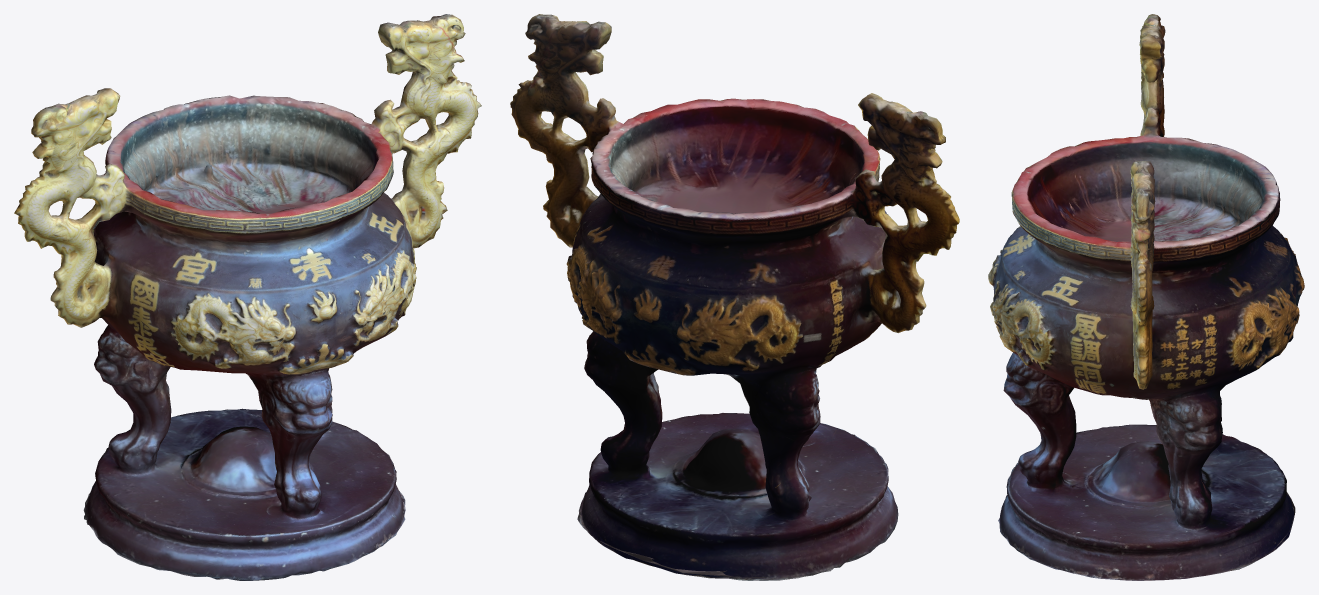
The picture shows the model from 3 angles, left to right: view 1: azimuth 30°, elevation 25°; view 2: azimuth 150°, elevation 25°; view 3: azimuth 270°, elevation 25°; orthographic projection. The views are drawn at different scales.
Parts seen in each view (by area): view 1: ObjectCapture; view 2: ObjectCapture; view 3: ObjectCapture.
Part boxes in pixels (x1=…): ObjectCapture: x1=14, y1=14, x2=481, y2=580; ObjectCapture: x1=510, y1=14, x2=959, y2=580; ObjectCapture: x1=988, y1=14, x2=1304, y2=580.
Size of the model in its own units: 1.67 by 1.59 by 1.07.
1 material, 1 textured.
